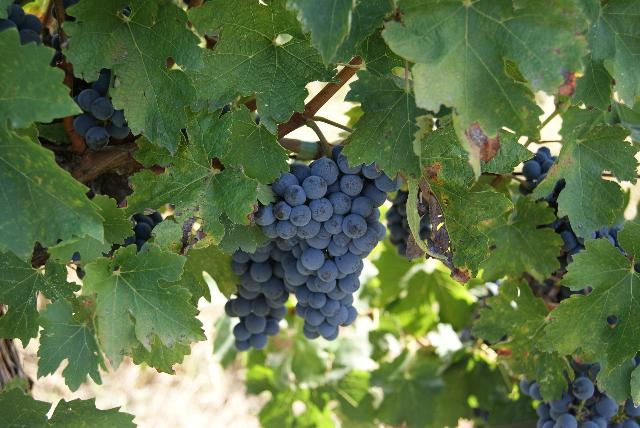grapes: (255, 146, 401, 340)
